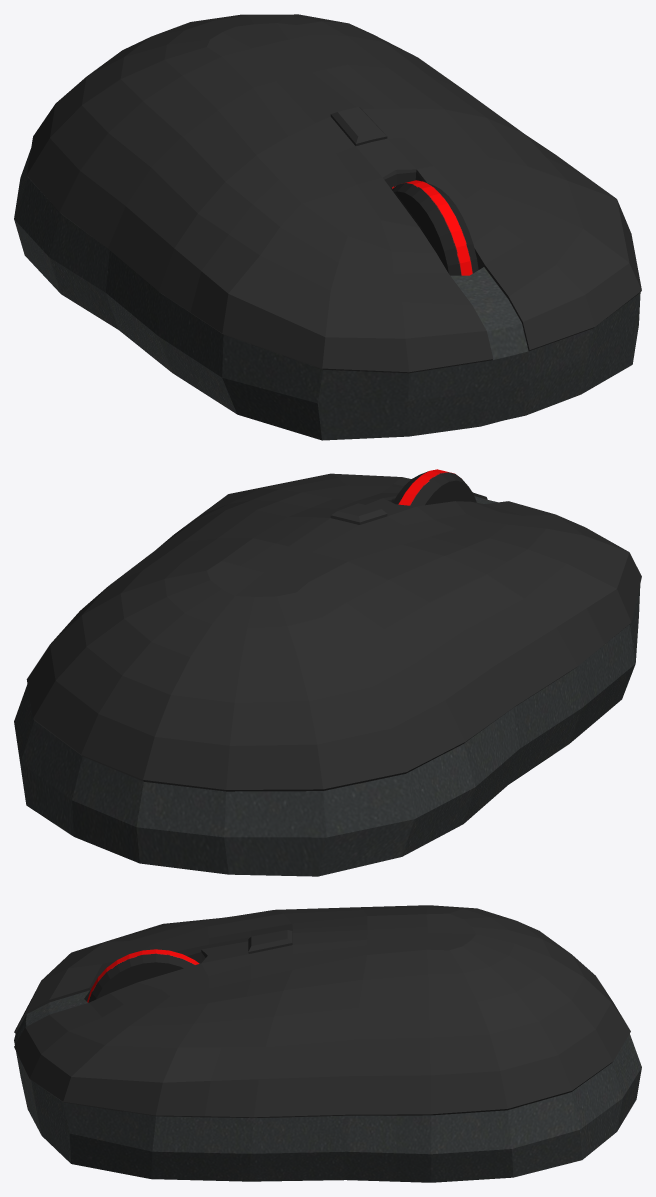
The model's file is Mouse2.fbx.
3 renders of one model, top to bottom at view 1: azimuth 30°, elevation 25°; view 2: azimuth 150°, elevation 25°; view 3: azimuth 270°, elevation 25°, orthographic. The views are drawn at different scales.
Visible parts, largest first — view 1: Mouse2Baked; view 2: Mouse2Baked; view 3: Mouse2Baked.
Part boxes in pixels (<box>): Mouse2Baked: <box>14,14,641,440</box>; Mouse2Baked: <box>14,469,641,876</box>; Mouse2Baked: <box>14,905,641,1182</box>.
Size of the model in its own units: 189 by 85.56 by 289.
